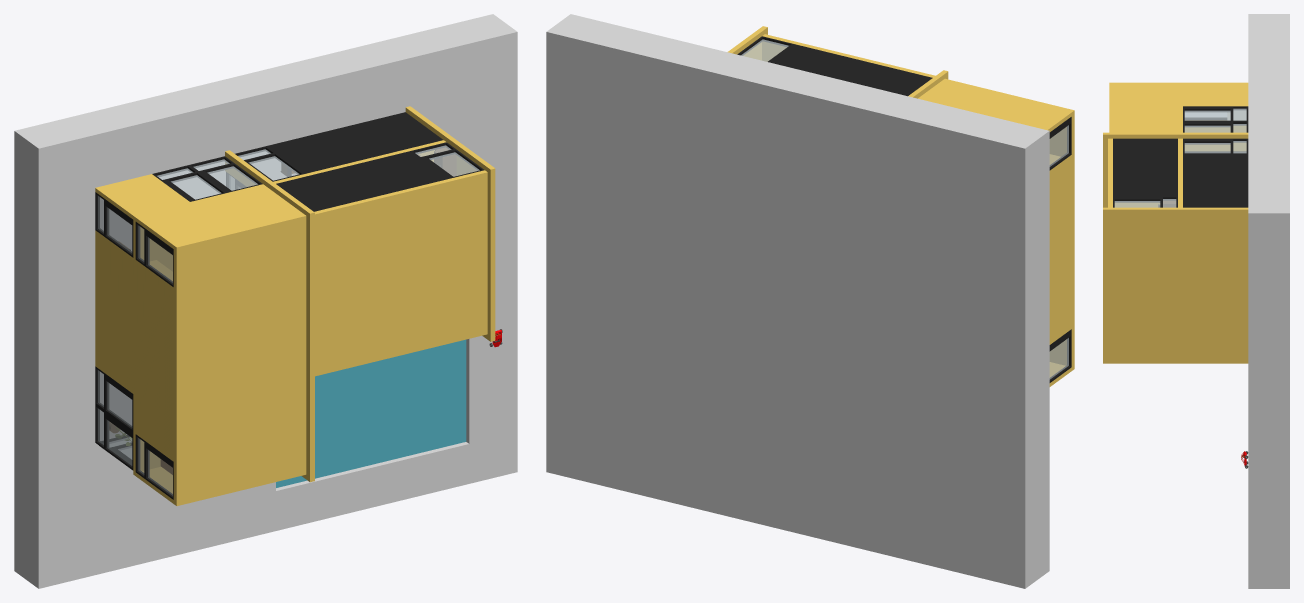
File: my_modern.dae
The picture shows the model from 3 angles, left to right: view 1: azimuth 30°, elevation 25°; view 2: azimuth 150°, elevation 25°; view 3: azimuth 270°, elevation 25°; orthographic projection. The views are drawn at different scales.
Visible parts, largest first — view 1: Foundation, Walls, Pool, Black Walls, Glass (×9), Frame (×8); view 2: Foundation, Walls, Black Walls; view 3: Walls, Foundation, Black Walls, Glass (×4), Frame (×4).
Boxes of the visible parts, box(x1,y1,x2,y2) form: Foundation: box(14, 14, 517, 588); Walls: box(95, 106, 495, 505); Pool: box(276, 339, 466, 487); Black Walls: box(266, 112, 447, 211); Glass (×9): box(98, 145, 479, 495); Frame (×8): box(95, 142, 484, 499); Foundation: box(546, 14, 1049, 588); Walls: box(727, 26, 1074, 386); Black Walls: box(774, 45, 932, 96); Walls: box(1103, 82, 1248, 363); Foundation: box(1248, 14, 1289, 588); Black Walls: box(1113, 138, 1248, 207); Glass (×4): box(1114, 108, 1246, 207); Frame (×4): box(1113, 106, 1248, 207).
Size of the model in its own units: 816 by 717 by 323.
